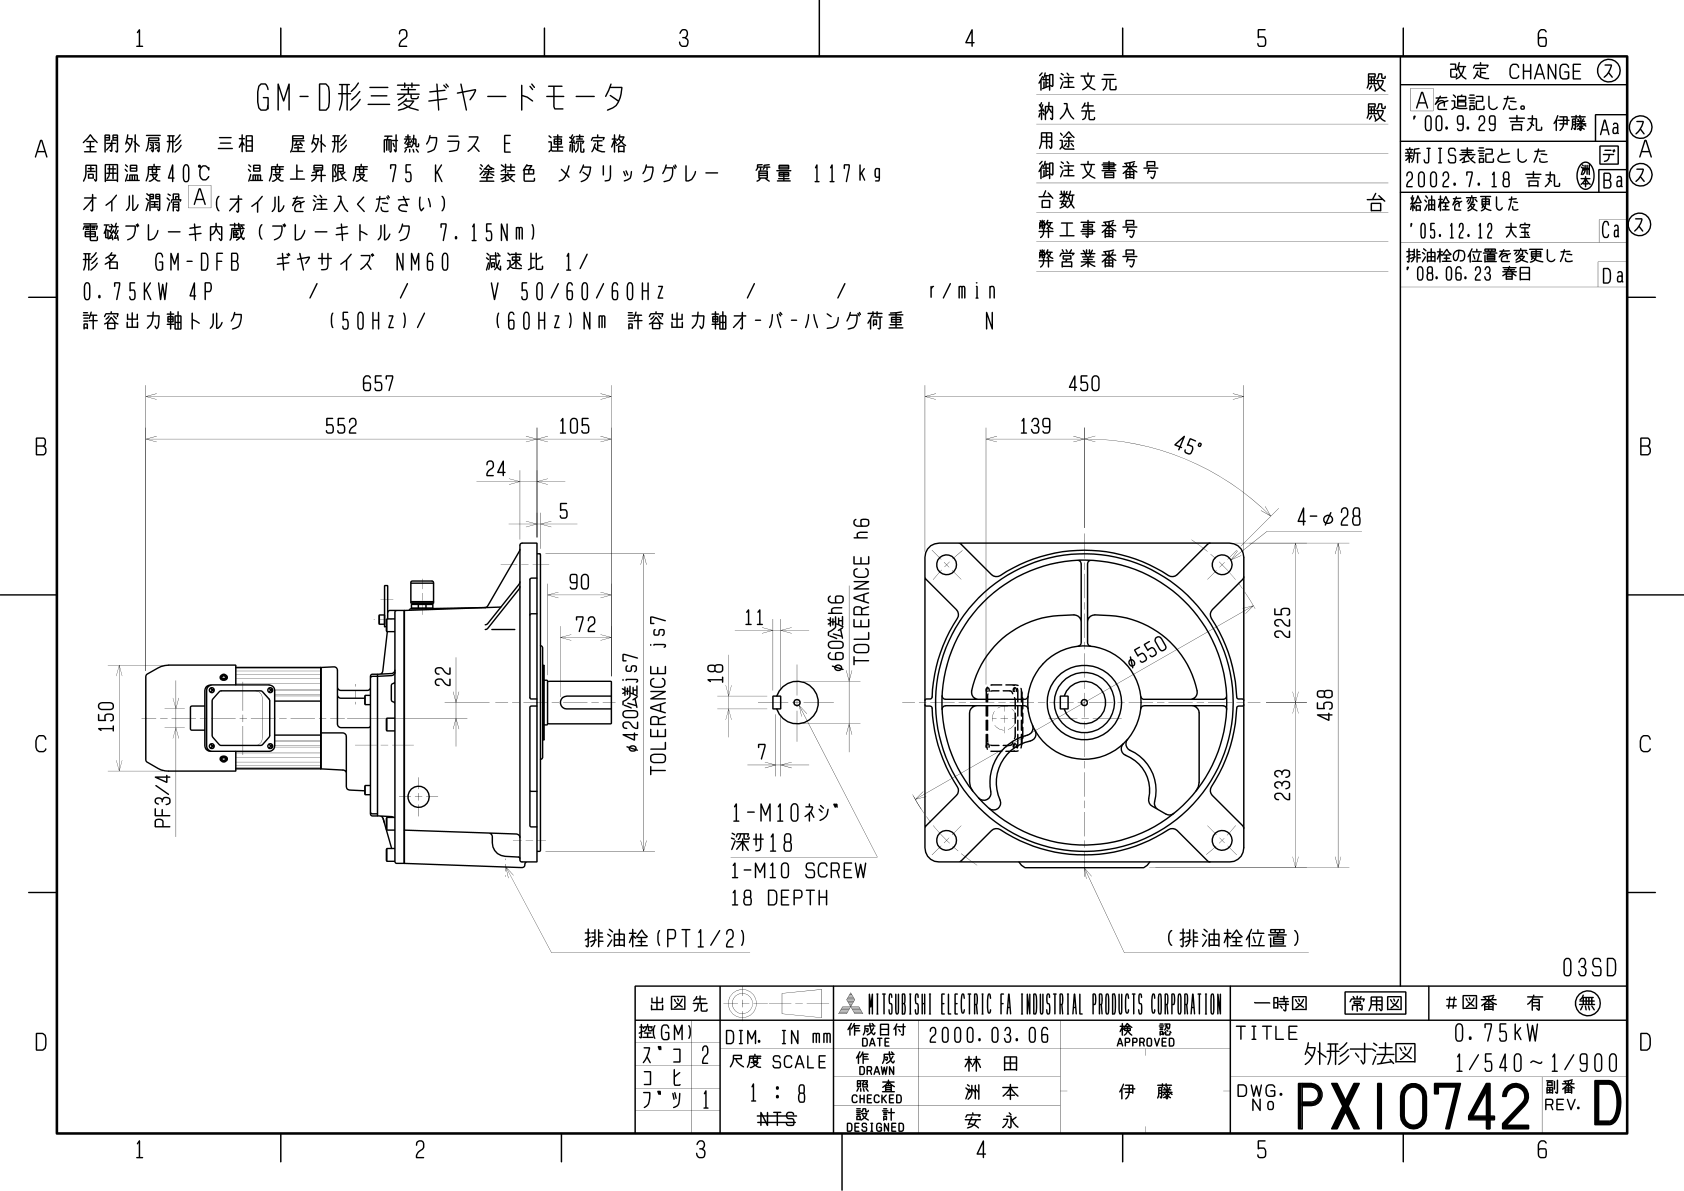GM_D_屋外＿三相_フランジ: (1, 1, 1669, 1186)
